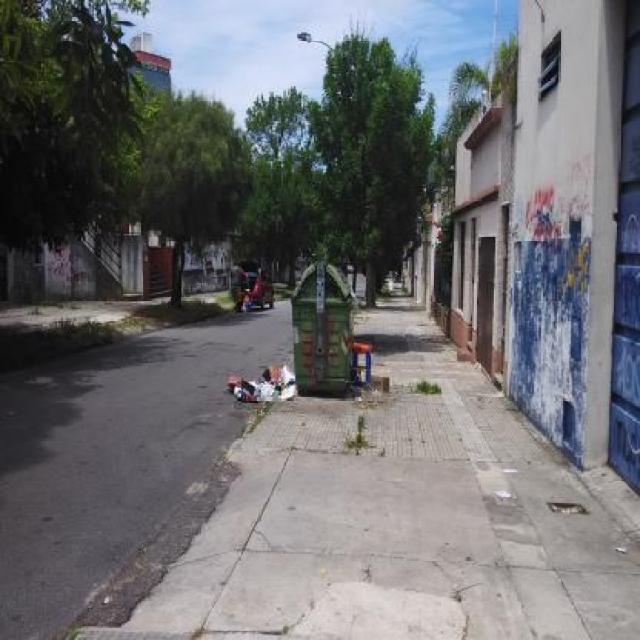garbage: (217, 340, 297, 408)
